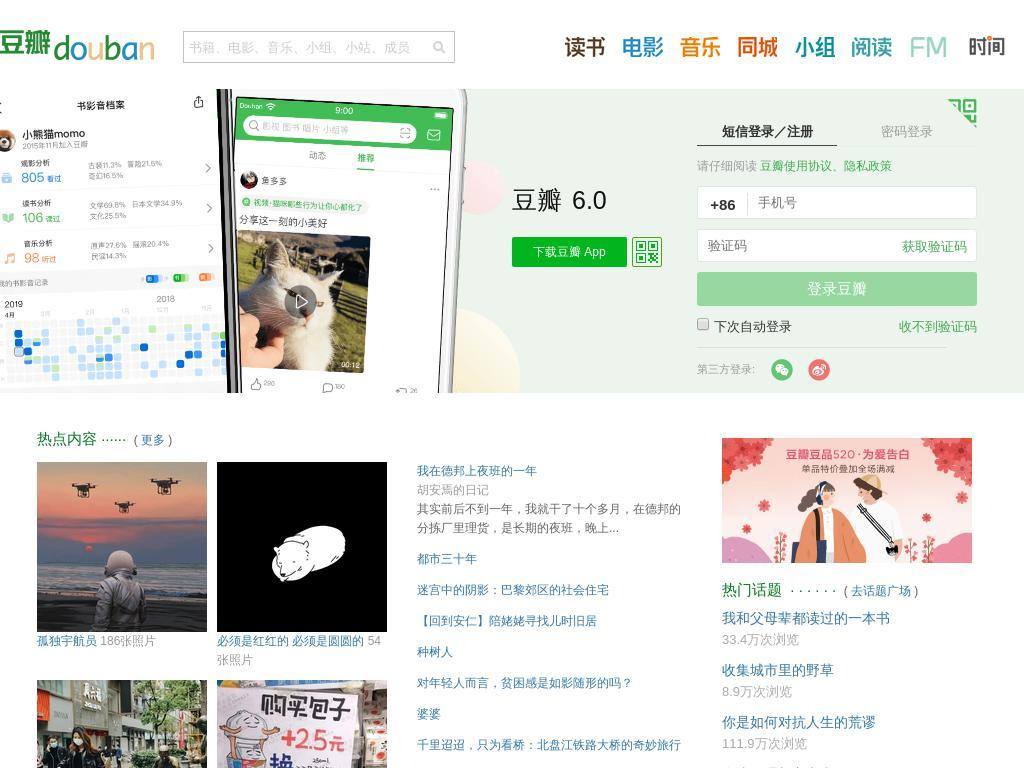button: (512, 237, 627, 267), (722, 609, 890, 627), (722, 713, 876, 731), (722, 661, 834, 679), (632, 237, 663, 267), (565, 36, 606, 57), (622, 36, 663, 57), (679, 36, 720, 57), (737, 36, 778, 57), (794, 36, 835, 57), (851, 36, 892, 57), (909, 36, 950, 57), (966, 36, 1007, 56), (722, 765, 834, 768)
field: (184, 32, 435, 62), (424, 32, 455, 62)
heading: (0, 30, 160, 64), (722, 581, 840, 598), (37, 430, 130, 447), (851, 584, 912, 598), (141, 433, 166, 447), (840, 584, 852, 598), (130, 433, 142, 447), (911, 584, 919, 598), (165, 433, 173, 447)
iframe: (0, 0, 300, 768), (687, 89, 987, 389), (722, 438, 972, 563)
image: (37, 462, 207, 632), (217, 462, 387, 632), (37, 680, 207, 768), (217, 680, 387, 768), (633, 238, 662, 266)
link: (417, 738, 681, 752), (417, 676, 633, 690), (417, 583, 609, 597), (417, 614, 597, 628), (217, 634, 364, 648), (417, 464, 537, 478), (37, 634, 97, 648), (417, 552, 477, 566), (417, 645, 453, 659), (417, 707, 441, 721)
text: (417, 500, 692, 538), (217, 634, 381, 667), (417, 481, 692, 500), (722, 633, 987, 646), (722, 685, 987, 698), (722, 737, 987, 750), (512, 186, 562, 214), (572, 186, 607, 214), (100, 634, 157, 648)
